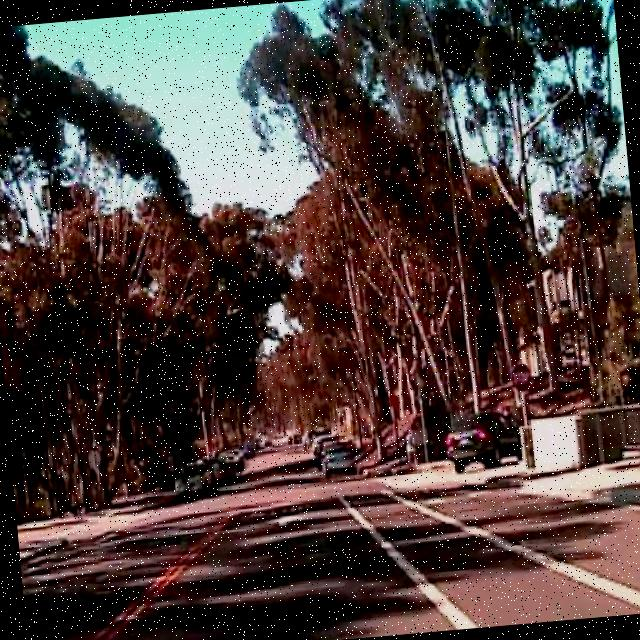Stop: (508, 356, 536, 394)
